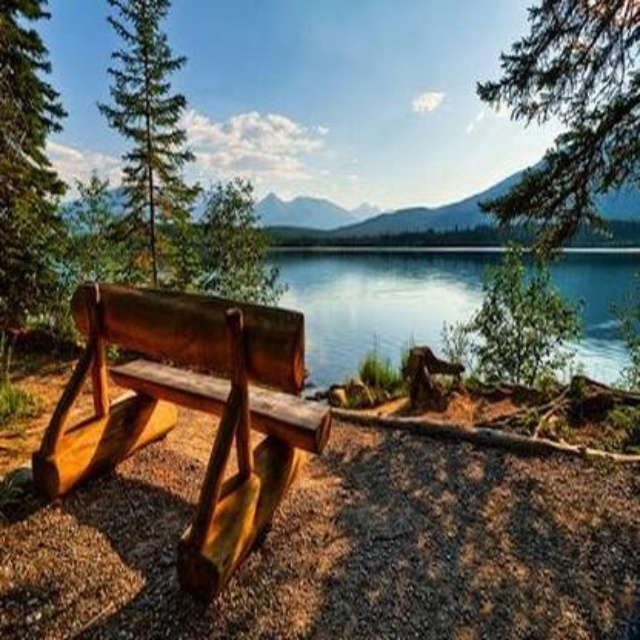obstacle: (35, 285, 338, 600)
